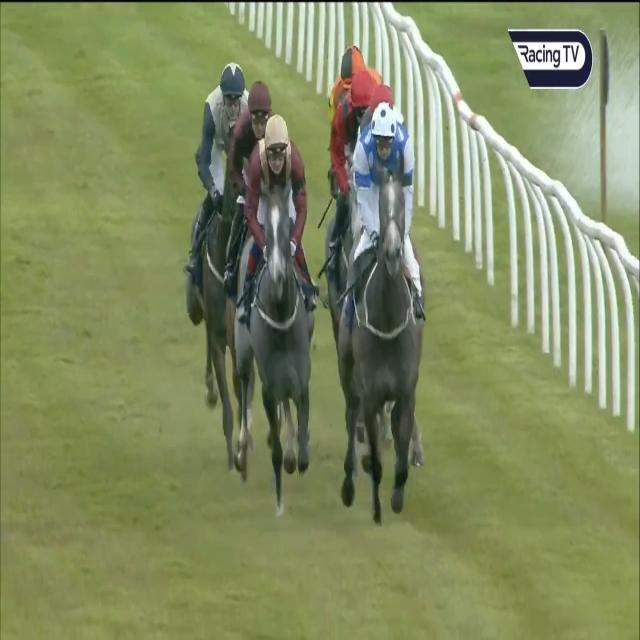horses-racing: (340, 82, 430, 522), (244, 106, 322, 508), (188, 56, 248, 461), (221, 68, 272, 520), (318, 62, 378, 174), (326, 35, 411, 111)
